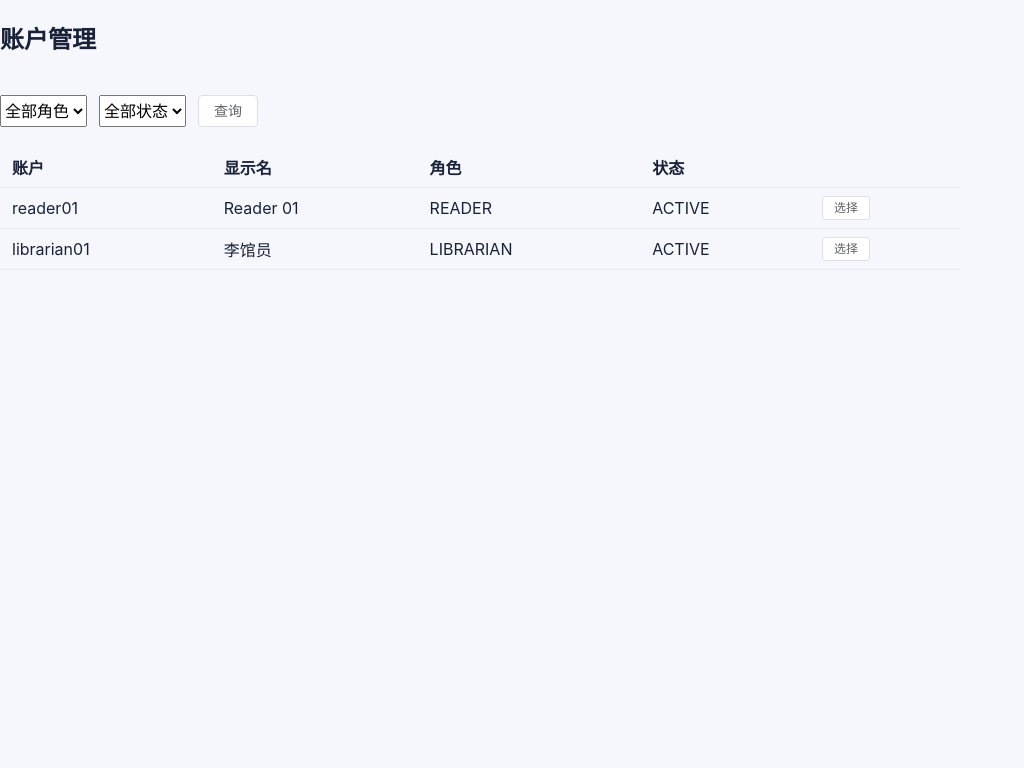
Test case: AccountAdminView › surfaces a change-request rejection from the mock
The width and height of the screenshot is (1024, 768).
Click the button with test id "account-select-1002".
click(846, 249)  # box [822,237,870,261]
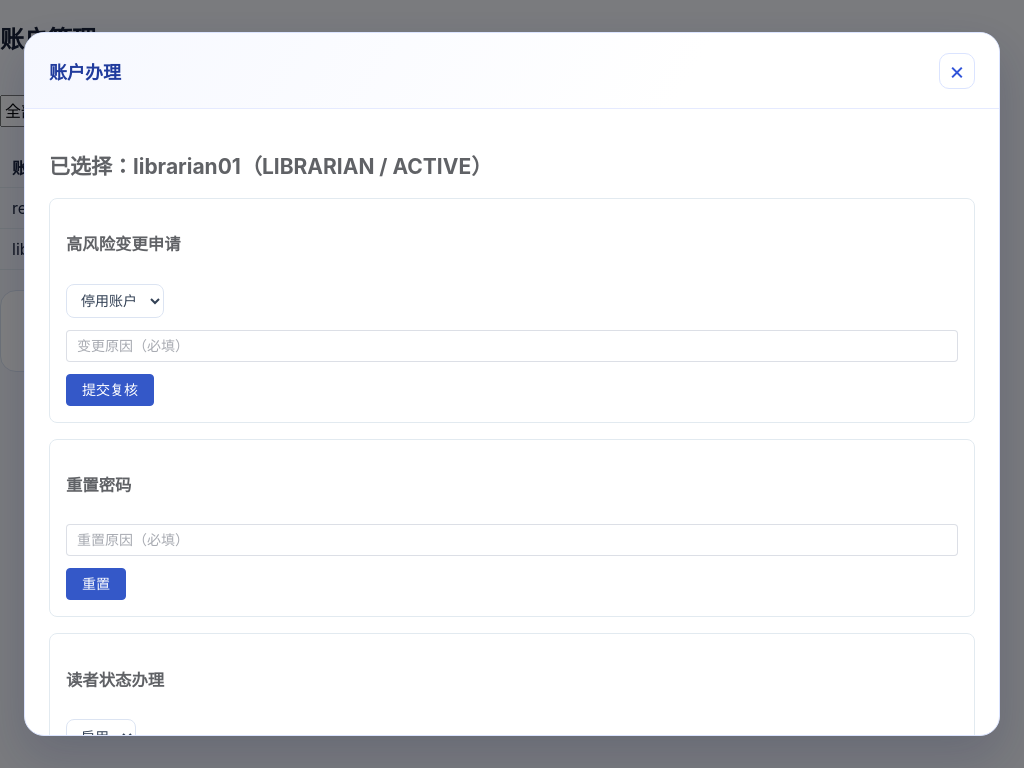
Type "x" into the field with test id "change-reason".
click(512, 346); type("x")  # box [77,331,947,361]
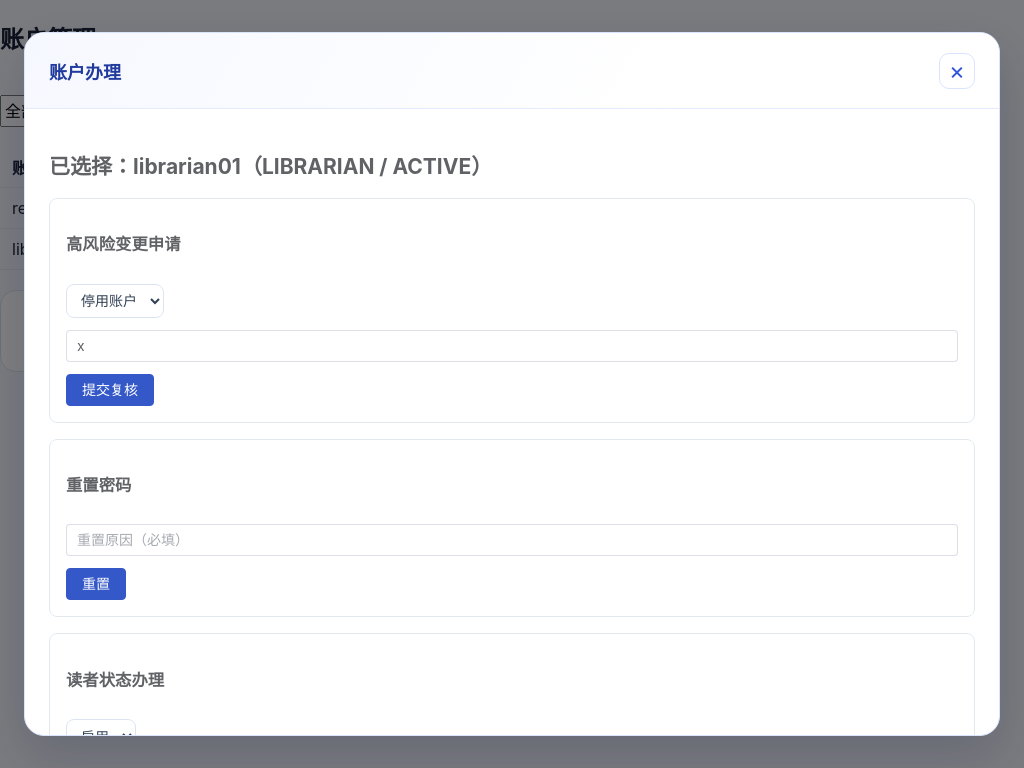
Submit the form with test id "change-form", box [66,284,958,406]
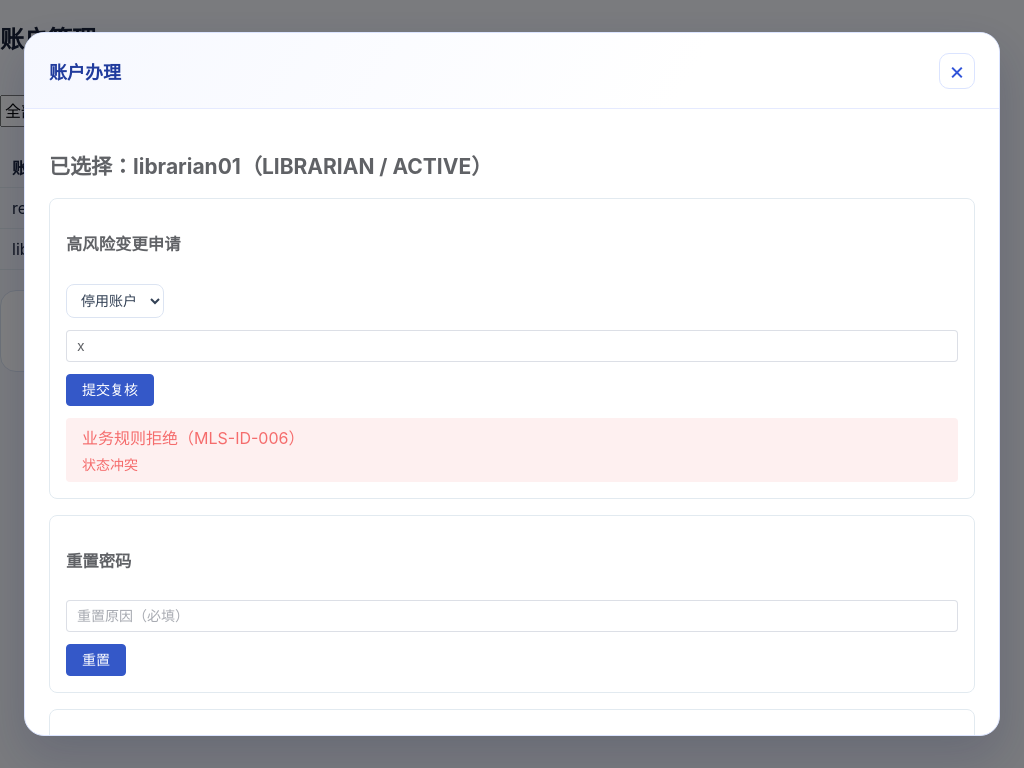
Check: the element with test id "error-alert" shows "MLS-ID-006", box [82,428,304,448]
